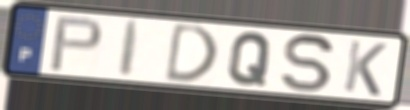D: (162, 20, 221, 84)
I: (116, 18, 145, 80)
K: (340, 37, 390, 99)
P: (47, 15, 105, 74)
Q: (225, 30, 275, 88)
S: (279, 32, 336, 95)
